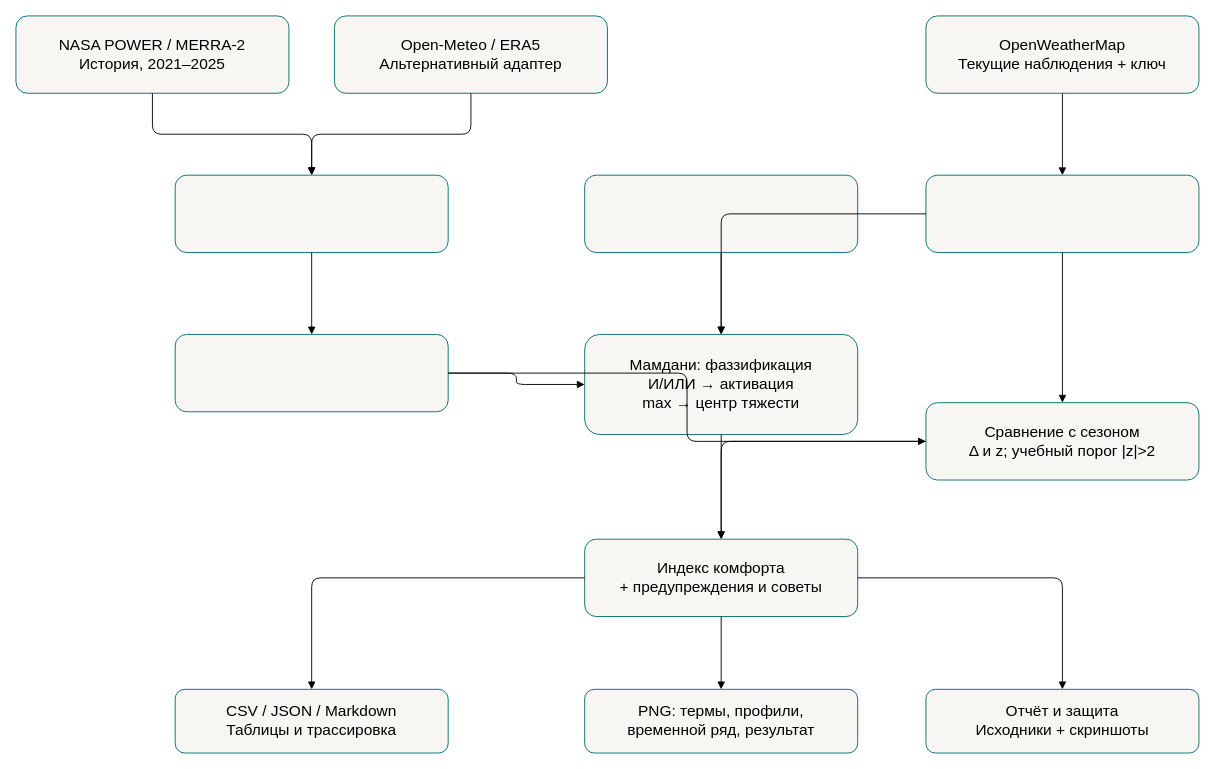
Some shapes in this 1215 by 769 pixel diagram are drawn without their labels. Here are the shapes that lost their labels. From the top down, the centre of each, then its label:
At [311,213]: "JSON → проверка единиц UTC → Europe/Moscow".
At [721,213]: "База знаний 7 общих + 1 правило города".
At [1062,213]: "JSON → температура, влажность, ветер, время".
At [311,373]: "Сезонные статистики Среднее, s, min, max".
